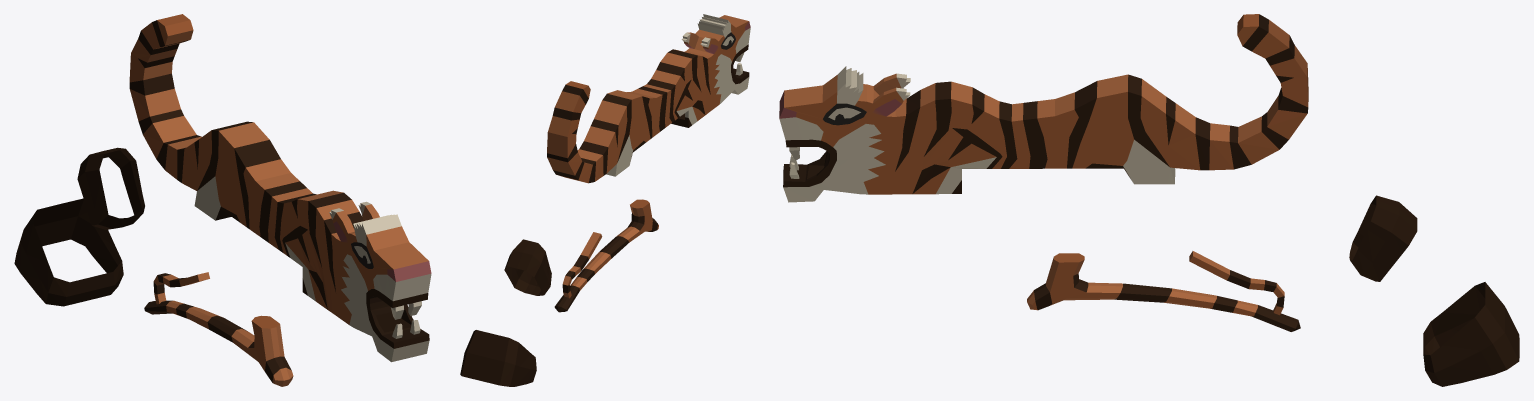
File: smallCrossbowTigerHandle.glb
3 renders of one model, left to right at view 1: azimuth 30°, elevation 25°; view 2: azimuth 150°, elevation 25°; view 3: azimuth 270°, elevation 25°, orthographic. The views are drawn at different scales.
Parts seen in each view (by area): view 1: smallCrossbowTigerHandle; view 2: smallCrossbowTigerHandle; view 3: smallCrossbowTigerHandle.
Part boxes in pixels (box(x1,y1,x2,y2)): smallCrossbowTigerHandle: box(14, 14, 431, 386); smallCrossbowTigerHandle: box(460, 14, 750, 386); smallCrossbowTigerHandle: box(779, 14, 1519, 386).
Bounding box in the file's own units: 0.055 × 0.2424 × 0.4662.
